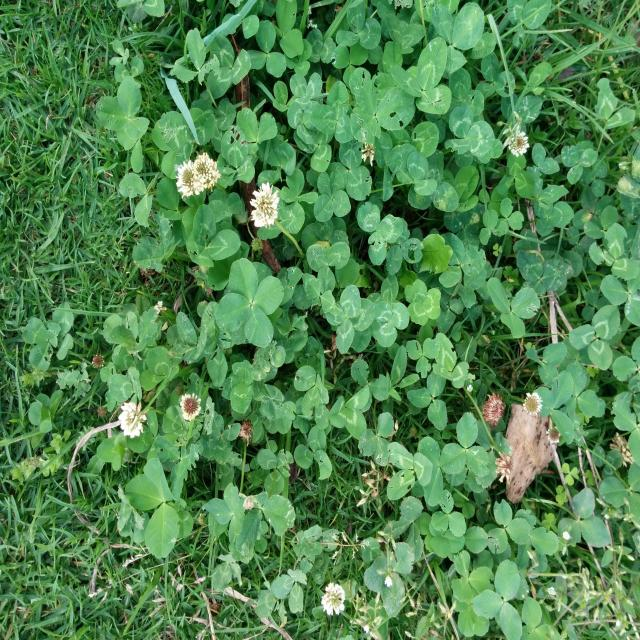Four Leaf Clover: (214, 258, 284, 347)
